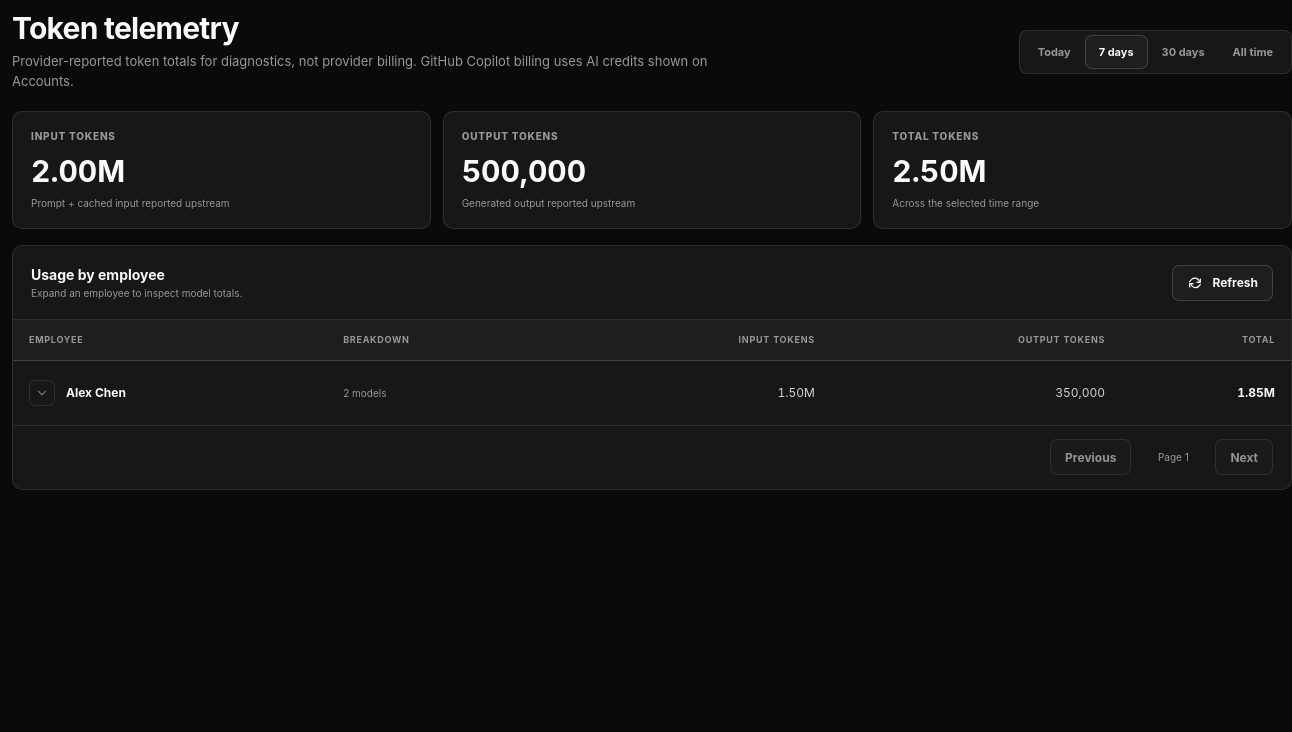
it: Subpool console › shows server-aggregated usage totals without rendering request content
The width and height of the screenshot is (1292, 732).
Expected: the text "2.00M" is shown, [31, 153, 125, 189]
Expected: the text "500,000" is shown, [462, 153, 586, 189]
Click the button "Alex Chen" at {"x": 77, "y": 392}, box [29, 374, 126, 410]
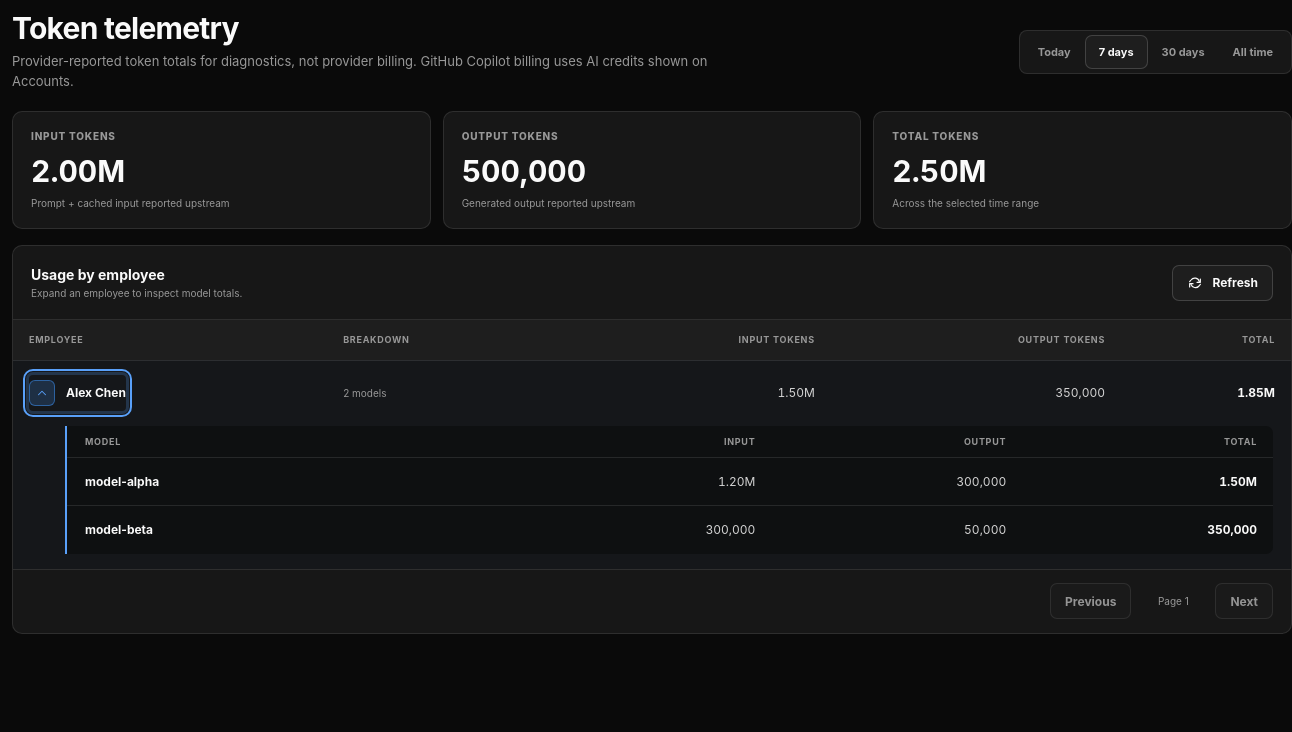
Now the text "model-alpha" is shown, box [85, 474, 159, 488]
Now the text "model-beta" is shown, box [85, 522, 153, 537]
